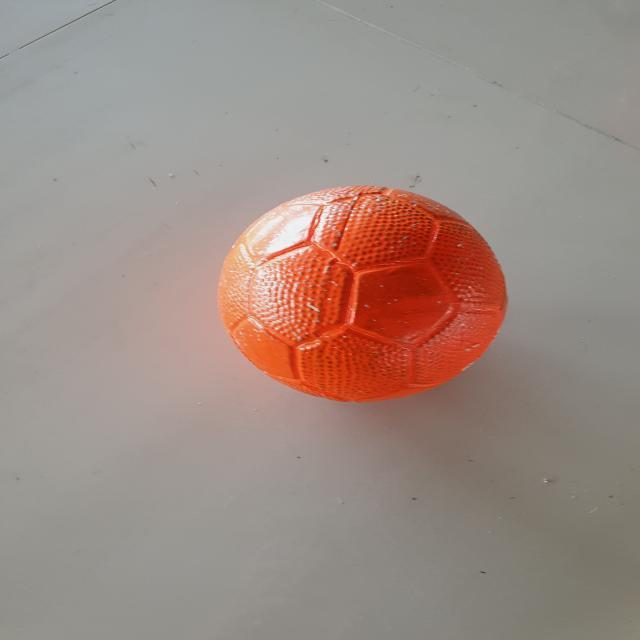bola: (214, 180, 516, 411)
